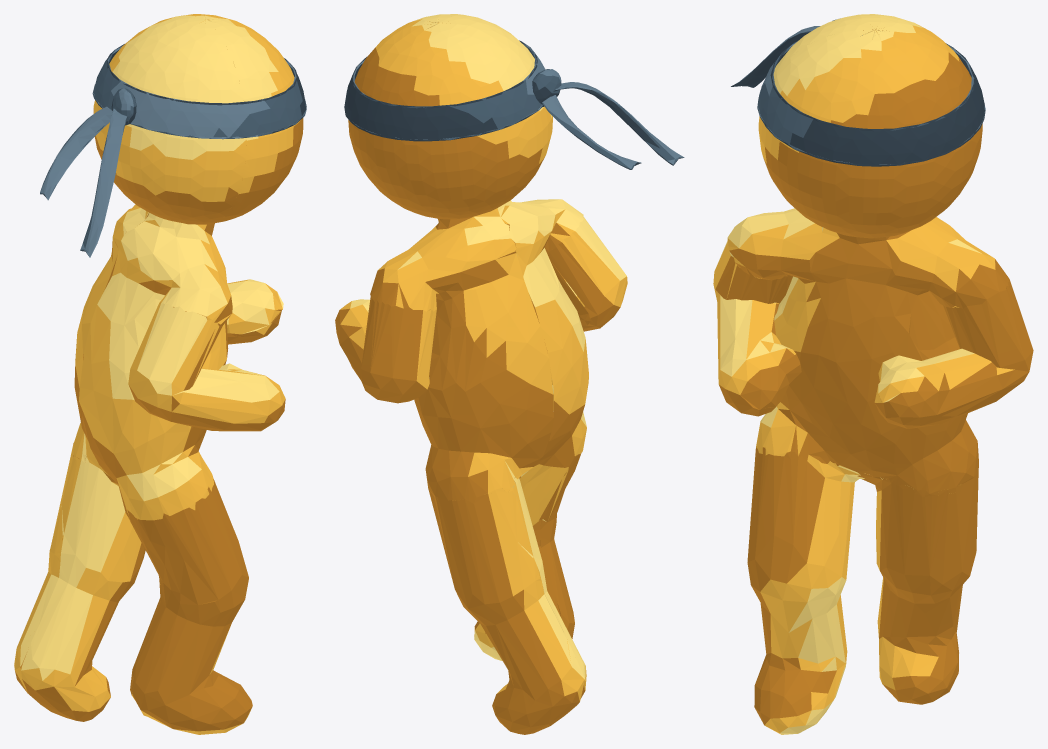
Rendered from Ninja_Jog4_R.gltf.
3 views of the same model, side by side, from view 1: azimuth 30°, elevation 25°; view 2: azimuth 150°, elevation 25°; view 3: azimuth 270°, elevation 25° (orthographic). The views are drawn at different scales.
Parts seen in each view (by area): view 1: Ninja_Jog4_R_baked; view 2: Ninja_Jog4_R_baked; view 3: Ninja_Jog4_R_baked.
Part boxes in pixels (x1=…): Ninja_Jog4_R_baked: x1=14, y1=14, x2=306, y2=734; Ninja_Jog4_R_baked: x1=335, y1=14, x2=684, y2=734; Ninja_Jog4_R_baked: x1=713, y1=14, x2=1033, y2=734.
Bounding box in the file's own units: 0.4153 × 1 × 0.3983.
